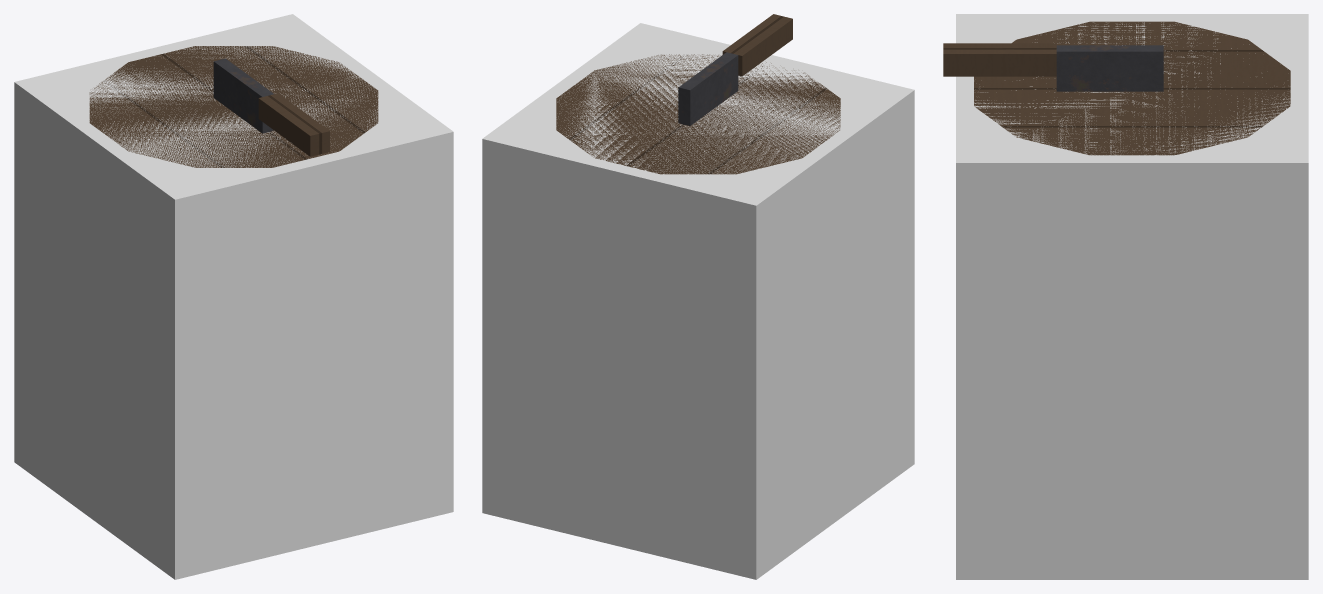
Rendered from chopping_block.glb.
3 views of the same model, side by side, from view 1: azimuth 30°, elevation 25°; view 2: azimuth 150°, elevation 25°; view 3: azimuth 270°, elevation 25° (orthographic). The views are drawn at different scales.
Visible parts, largest first — view 1: COL_HULL_chopping_block, chopping_block; view 2: COL_HULL_chopping_block, chopping_block; view 3: COL_HULL_chopping_block, chopping_block.
Part boxes in pixels (<box>): COL_HULL_chopping_block: <box>14,14,453,579</box>; chopping_block: <box>89,46,378,167</box>; COL_HULL_chopping_block: <box>482,23,914,579</box>; chopping_block: <box>556,14,840,174</box>; COL_HULL_chopping_block: <box>956,14,1308,579</box>; chopping_block: <box>943,21,1290,155</box>.
Size of the model in its own units: 0.56 by 0.8 by 0.58.
Materials: 3 (3 with a texture image).
